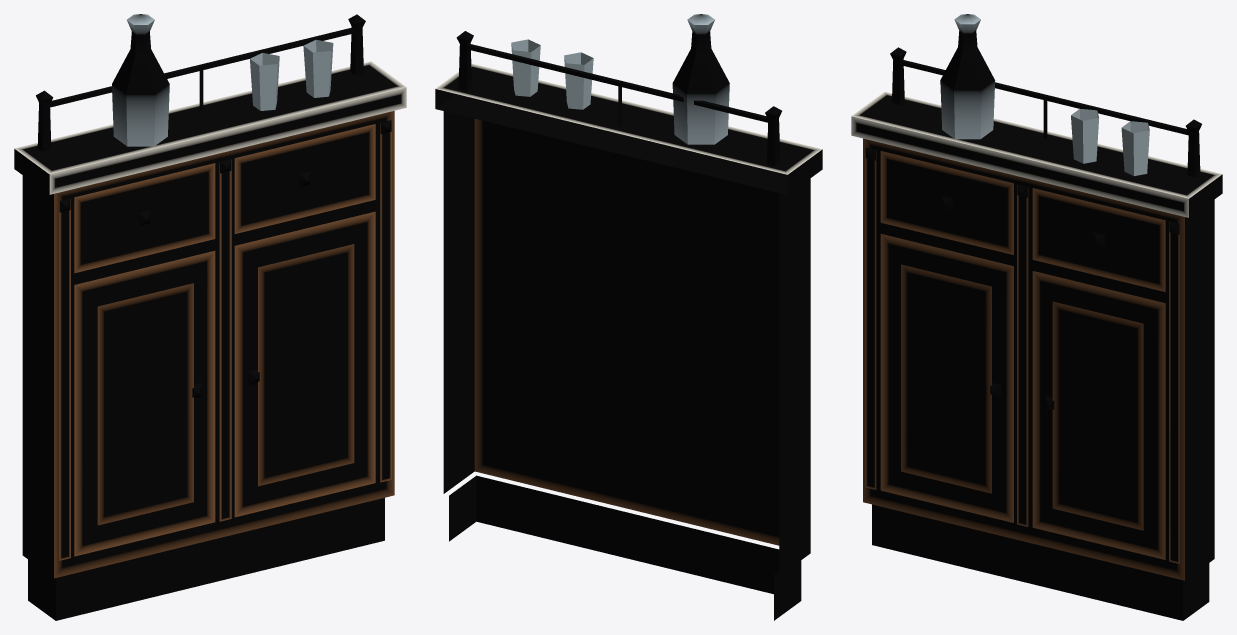
File: sideboard_64.glb
3 views of the same model, side by side, from view 1: azimuth 30°, elevation 25°; view 2: azimuth 150°, elevation 25°; view 3: azimuth 330°, elevation 25° (orthographic). The views are drawn at different scales.
Parts seen in each view (by area): view 1: teak, frame, top, dark, glass, brass; view 2: frame, top, dark, glass, brass; view 3: teak, frame, top, dark, glass, brass.
Boxes of the visible parts, x1,y1,x2,y2 form: teak: (59, 120, 391, 560); frame: (22, 111, 394, 578); top: (14, 61, 406, 194); dark: (28, 498, 384, 620); glass: (112, 14, 333, 146); brass: (36, 14, 365, 398); frame: (443, 111, 810, 575); top: (435, 63, 822, 194); dark: (449, 475, 801, 620); glass: (511, 14, 729, 144); brass: (456, 31, 781, 166); teak: (865, 147, 1179, 563); frame: (863, 138, 1214, 580); top: (851, 92, 1222, 217); dark: (872, 504, 1209, 620); glass: (940, 14, 1149, 176); brass: (890, 47, 1201, 410).
Size of the model in its own units: 0.64 by 0.99 by 0.11.
